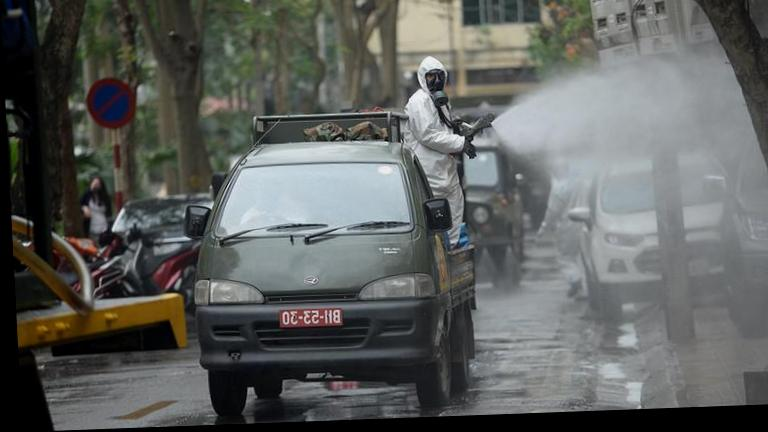License_Plate: (278, 307, 344, 330)
